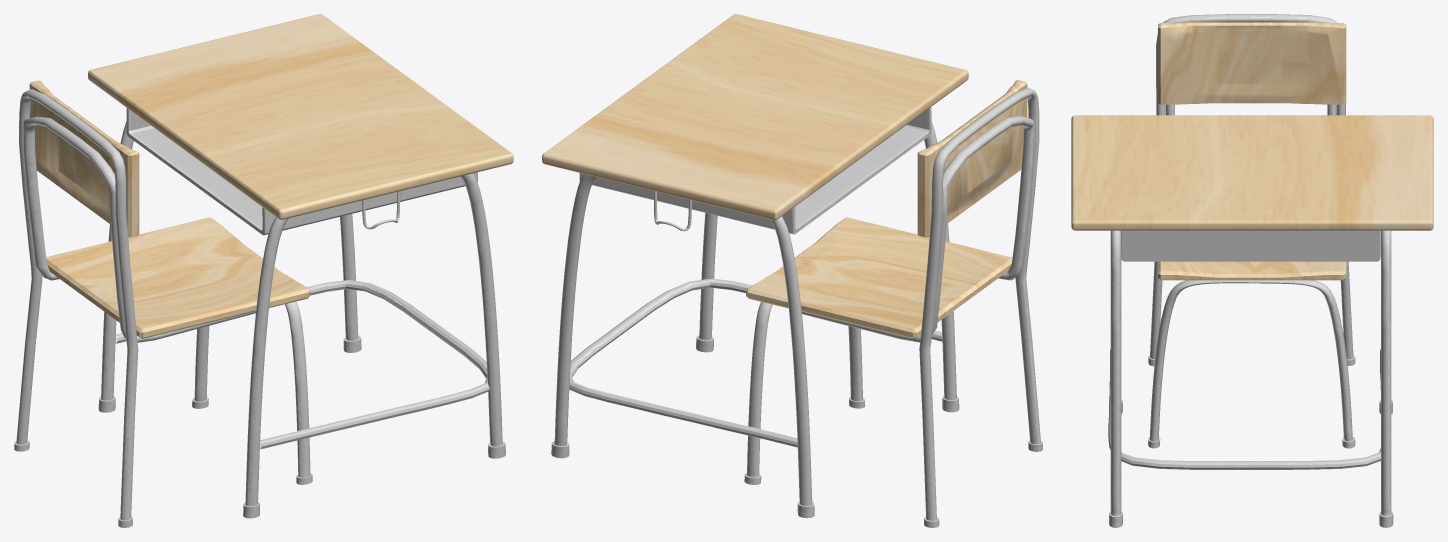
The model's file is school-desk.glb.
The picture shows the model from 3 angles, left to right: view 1: azimuth 30°, elevation 25°; view 2: azimuth 150°, elevation 25°; view 3: azimuth 270°, elevation 25°; orthographic projection. The views are drawn at different scales.
Visible parts, largest first — view 1: TAPA4_StingrayPBS5_0, CAJON_StingrayPBS6_0; view 2: TAPA4_StingrayPBS5_0, CAJON_StingrayPBS6_0; view 3: TAPA4_StingrayPBS5_0, CAJON_StingrayPBS6_0.
Boxes of the visible parts, bbox=[...] form: TAPA4_StingrayPBS5_0: bbox=[29, 14, 513, 338]; CAJON_StingrayPBS6_0: bbox=[14, 89, 505, 527]; TAPA4_StingrayPBS5_0: bbox=[542, 14, 1027, 338]; CAJON_StingrayPBS6_0: bbox=[551, 87, 1042, 527]; TAPA4_StingrayPBS5_0: bbox=[1071, 22, 1433, 280]; CAJON_StingrayPBS6_0: bbox=[1108, 14, 1393, 527].
Size of the model in its own units: 1.2 by 1.14 by 1.07.
2 materials, 2 textured.
